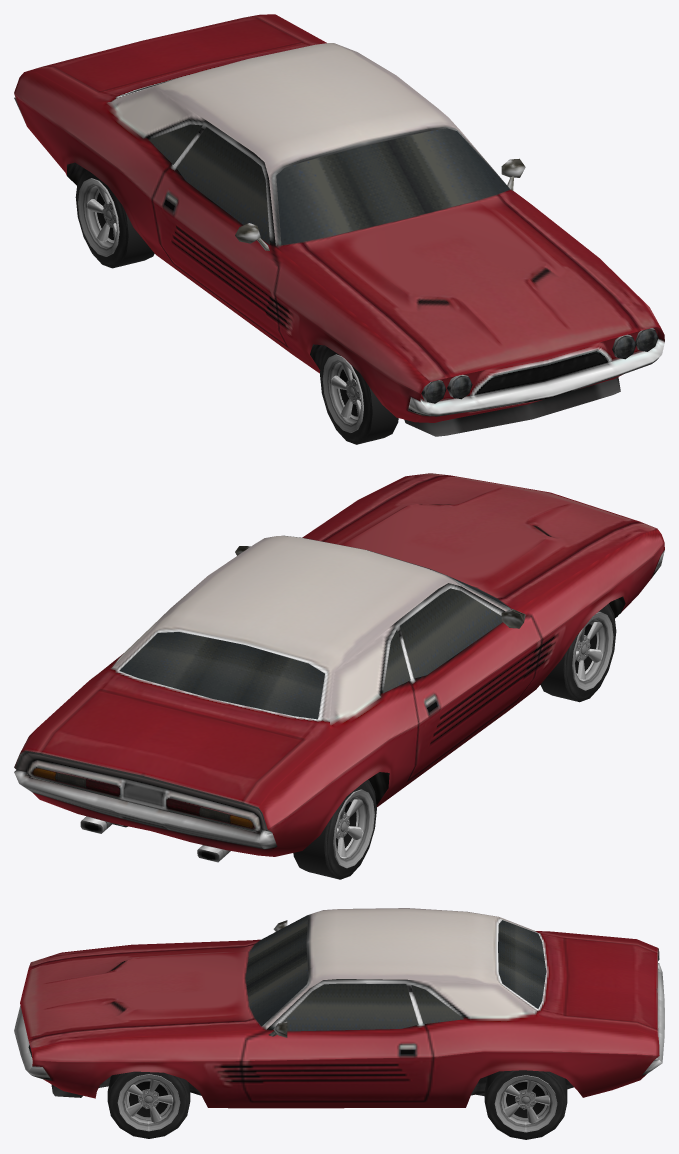
Rendered from tanner72.glb.
3 renders of one model, top to bottom at view 1: azimuth 30°, elevation 25°; view 2: azimuth 150°, elevation 25°; view 3: azimuth 270°, elevation 25°, orthographic. The views are drawn at different scales.
Visible parts, largest first — view 1: Body_Body_Tanner72_0, Hood_Body_Tanner72_0, Glass_GT1_Glass_Clean_0, Trunkdoor_Body_Tanner72_0, Bumper_Front_Body_Tanner72_0, Wheel_RR_Rim_Stragar5sp_0, Wheel_FR_Rim_Stragar5sp_0, Wheel_FR_wp_tire_01_dif_0, Wheel_RR_wp_tire_01_dif_0, Glass_Headlights_gt1_headlights_3_0; view 2: Body_Body_Tanner72_0, Hood_Body_Tanner72_0, Glass_GT1_Glass_Clean_0, Trunkdoor_Body_Tanner72_0, Bumper_rear_Body_Tanner72_0, Wheel_RR_Rim_Stragar5sp_0, Wheel_FR_Rim_Stragar5sp_0, Wheel_RR_wp_tire_01_dif_0, Wheel_FR_wp_tire_01_dif_0, Bottom_gt1_Bottom_0, Glass_Stoplights_gt1_headlights_3_0, Glass_Reverse_gt1_headlights_3_0; view 3: Body_Body_Tanner72_0, Hood_Body_Tanner72_0, Glass_GT1_Glass_Clean_0, Trunkdoor_Body_Tanner72_0, Wheel_RL_Rim_Stragar5sp_0, Wheel_FL_Rim_Stragar5sp_0, Wheel_RL_wp_tire_01_dif_0, Wheel_FL_wp_tire_01_dif_0, Bumper_Front_Body_Tanner72_0, Bumper_rear_Body_Tanner72_0, Bottom_gt1_Bottom_0.
Boxes of the visible parts, x1,y1,x2,y2 form: Body_Body_Tanner72_0: [14, 14, 664, 436]; Hood_Body_Tanner72_0: [303, 194, 640, 377]; Glass_GT1_Glass_Clean_0: [122, 79, 510, 245]; Trunkdoor_Body_Tanner72_0: [41, 17, 303, 91]; Bumper_Front_Body_Tanner72_0: [408, 339, 664, 416]; Wheel_RR_Rim_Stragar5sp_0: [78, 178, 119, 256]; Wheel_FR_Rim_Stragar5sp_0: [322, 354, 363, 432]; Wheel_FR_wp_tire_01_dif_0: [320, 347, 398, 444]; Wheel_RR_wp_tire_01_dif_0: [75, 168, 154, 268]; Glass_Headlights_gt1_headlights_3_0: [424, 329, 658, 403]; Body_Body_Tanner72_0: [14, 473, 664, 856]; Hood_Body_Tanner72_0: [322, 475, 639, 598]; Glass_GT1_Glass_Clean_0: [119, 575, 508, 719]; Trunkdoor_Body_Tanner72_0: [40, 690, 303, 802]; Bumper_rear_Body_Tanner72_0: [14, 770, 277, 848]; Wheel_RR_Rim_Stragar5sp_0: [333, 789, 374, 868]; Wheel_FR_Rim_Stragar5sp_0: [572, 612, 613, 690]; Wheel_RR_wp_tire_01_dif_0: [293, 780, 376, 879]; Wheel_FR_wp_tire_01_dif_0: [540, 603, 616, 702]; Bottom_gt1_Bottom_0: [80, 596, 625, 862]; Glass_Stoplights_gt1_headlights_3_0: [85, 779, 199, 815]; Glass_Reverse_gt1_headlights_3_0: [55, 772, 229, 823]; Body_Body_Tanner72_0: [28, 908, 659, 1108]; Hood_Body_Tanner72_0: [20, 944, 254, 1040]; Glass_GT1_Glass_Clean_0: [245, 915, 546, 1031]; Trunkdoor_Body_Tanner72_0: [564, 938, 658, 1030]; Wheel_RL_Rim_Stragar5sp_0: [494, 1075, 557, 1132]; Wheel_FL_Rim_Stragar5sp_0: [117, 1074, 180, 1131]; Wheel_RL_wp_tire_01_dif_0: [484, 1070, 567, 1139]; Wheel_FL_wp_tire_01_dif_0: [107, 1071, 190, 1138]; Bumper_Front_Body_Tanner72_0: [14, 1005, 51, 1080]; Bumper_rear_Body_Tanner72_0: [642, 963, 664, 1075]; Bottom_gt1_Bottom_0: [99, 1075, 571, 1095].
Bounding box in the file's own units: 1.96 × 1.31 × 4.9.
Materials: 7 (7 with a texture image).
